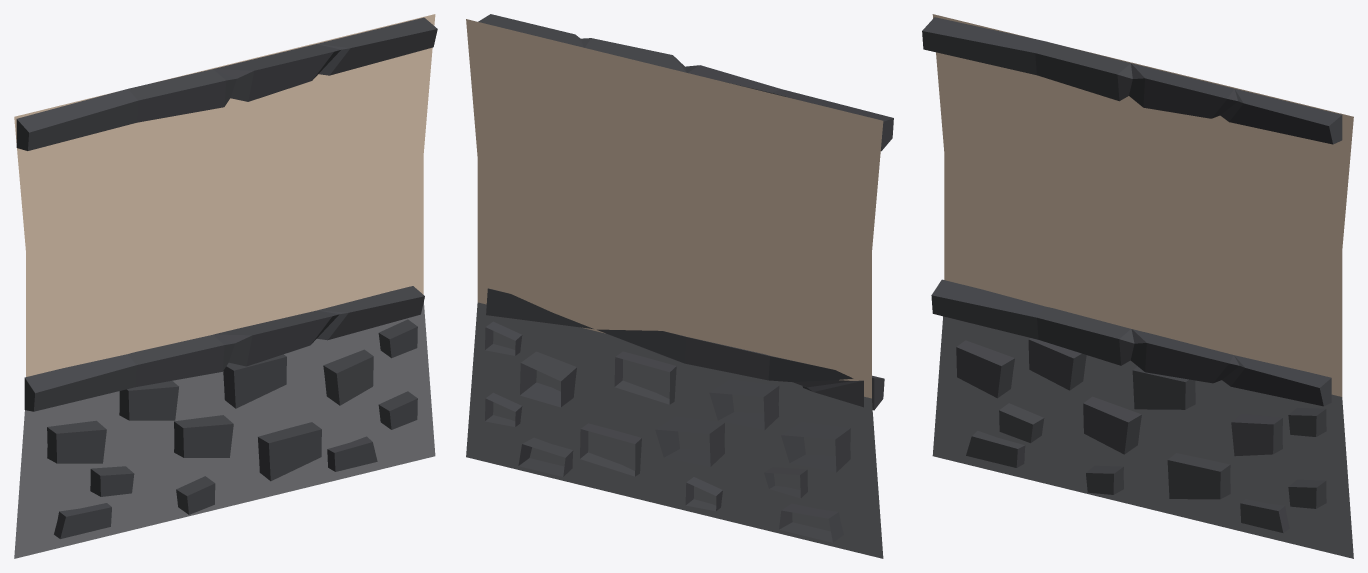
File: SM_L_G_Home_side.fbx
3 views of the same model, side by side, from view 1: azimuth 30°, elevation 25°; view 2: azimuth 150°, elevation 25°; view 3: azimuth 330°, elevation 25° (orthographic).
Parts seen in each view (by area): view 1: SM_L_G_Home_Side; view 2: SM_L_G_Home_Side; view 3: SM_L_G_Home_Side.
Boxes of the visible parts, box(x1,y1,x2,y2) form: SM_L_G_Home_Side: box(14, 14, 437, 558); SM_L_G_Home_Side: box(466, 14, 893, 558); SM_L_G_Home_Side: box(922, 14, 1353, 558).
Size of the model in its own units: 425 by 428 by 56.43.
